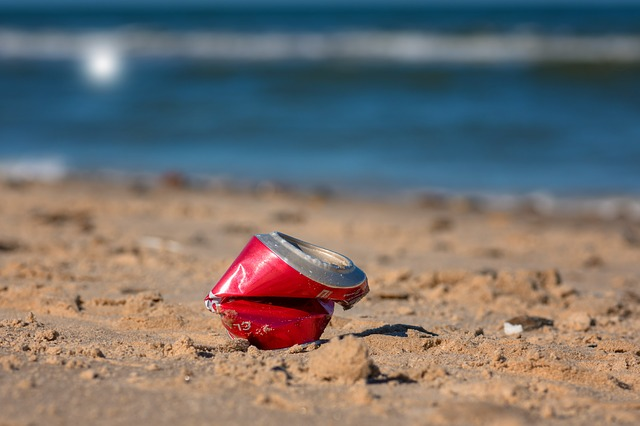can: (190, 219, 382, 370)
